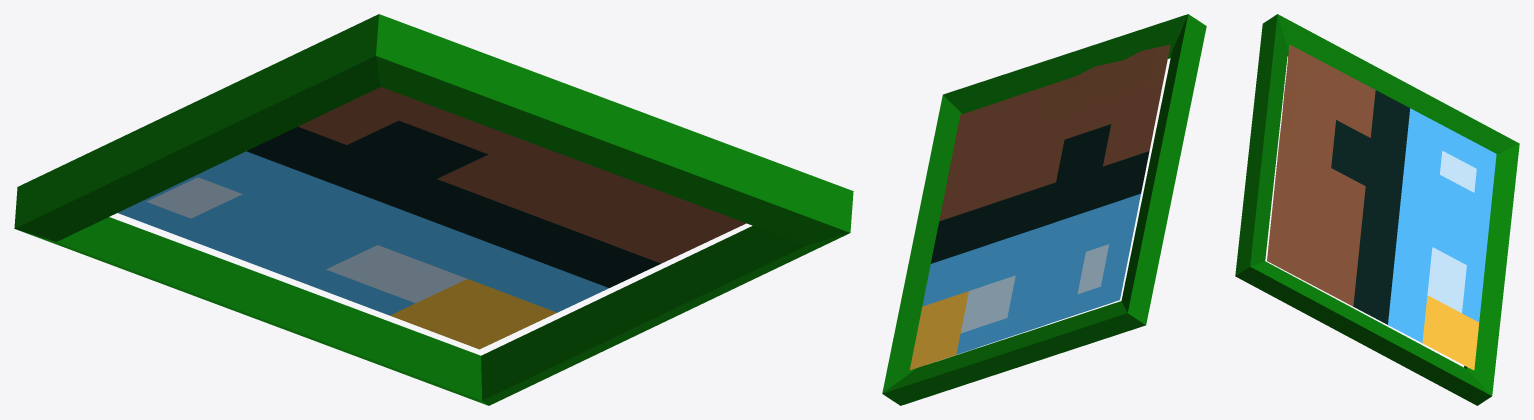
The model's file is pictureC.obj.
3 renders of one model, left to right at view 1: azimuth 30°, elevation 25°; view 2: azimuth 150°, elevation 25°; view 3: azimuth 270°, elevation 25°, orthographic. The views are drawn at different scales.
Parts seen in each view (by area): view 1: polySurface734; view 2: polySurface734; view 3: polySurface734.
Boxes of the visible parts, x1,y1,x2,y2 form: polySurface734: [14, 14, 853, 405]; polySurface734: [882, 14, 1206, 405]; polySurface734: [1235, 14, 1519, 405].
Size of the model in its own units: 4.42 by 4.31 by 3.52.
